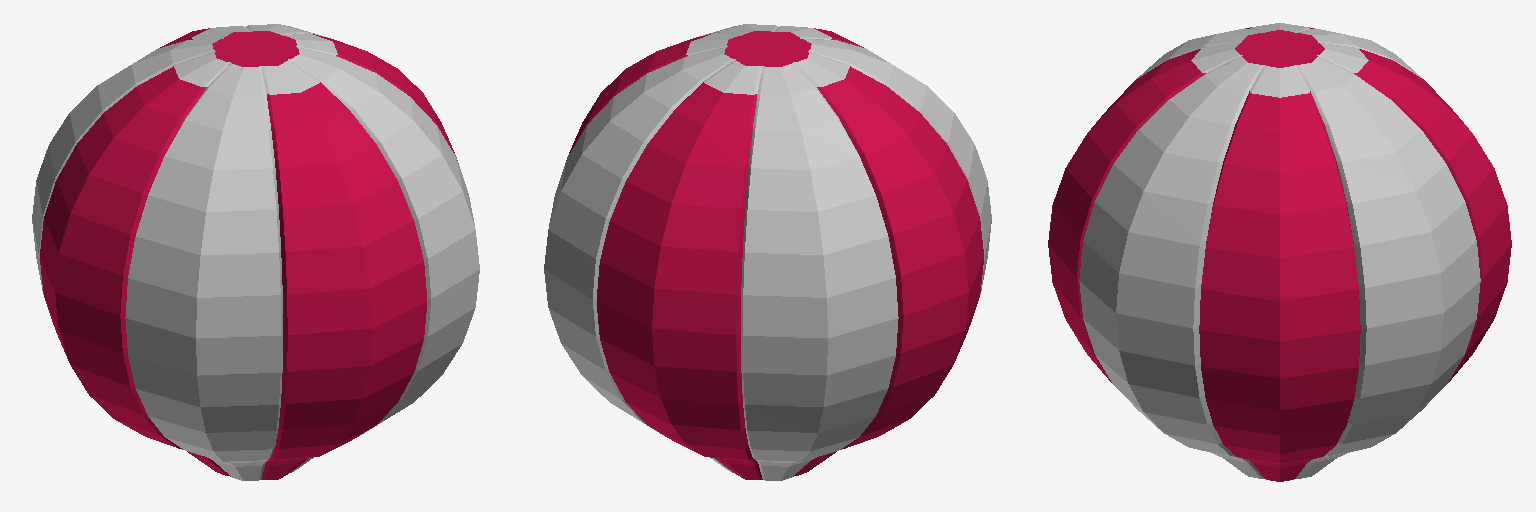
Rendered from hot_air_balloon.obj.
The picture shows the model from 3 angles: view 1: azimuth 30°, elevation 25°; view 2: azimuth 150°, elevation 25°; view 3: azimuth 270°, elevation 25°; orthographic projection.
Visible parts, largest first — view 1: obj7, obj6; view 2: obj7, obj6; view 3: obj7, obj6.
Part boxes in pixels (x1,y1,x2,y2): obj7: (32,24,479,480); obj6: (40,28,458,479); obj7: (544,24,991,480); obj6: (565,28,983,479); obj7: (1079,23,1480,478); obj6: (1048,27,1511,481).
Size of the model in its own units: 212 by 208 by 212.